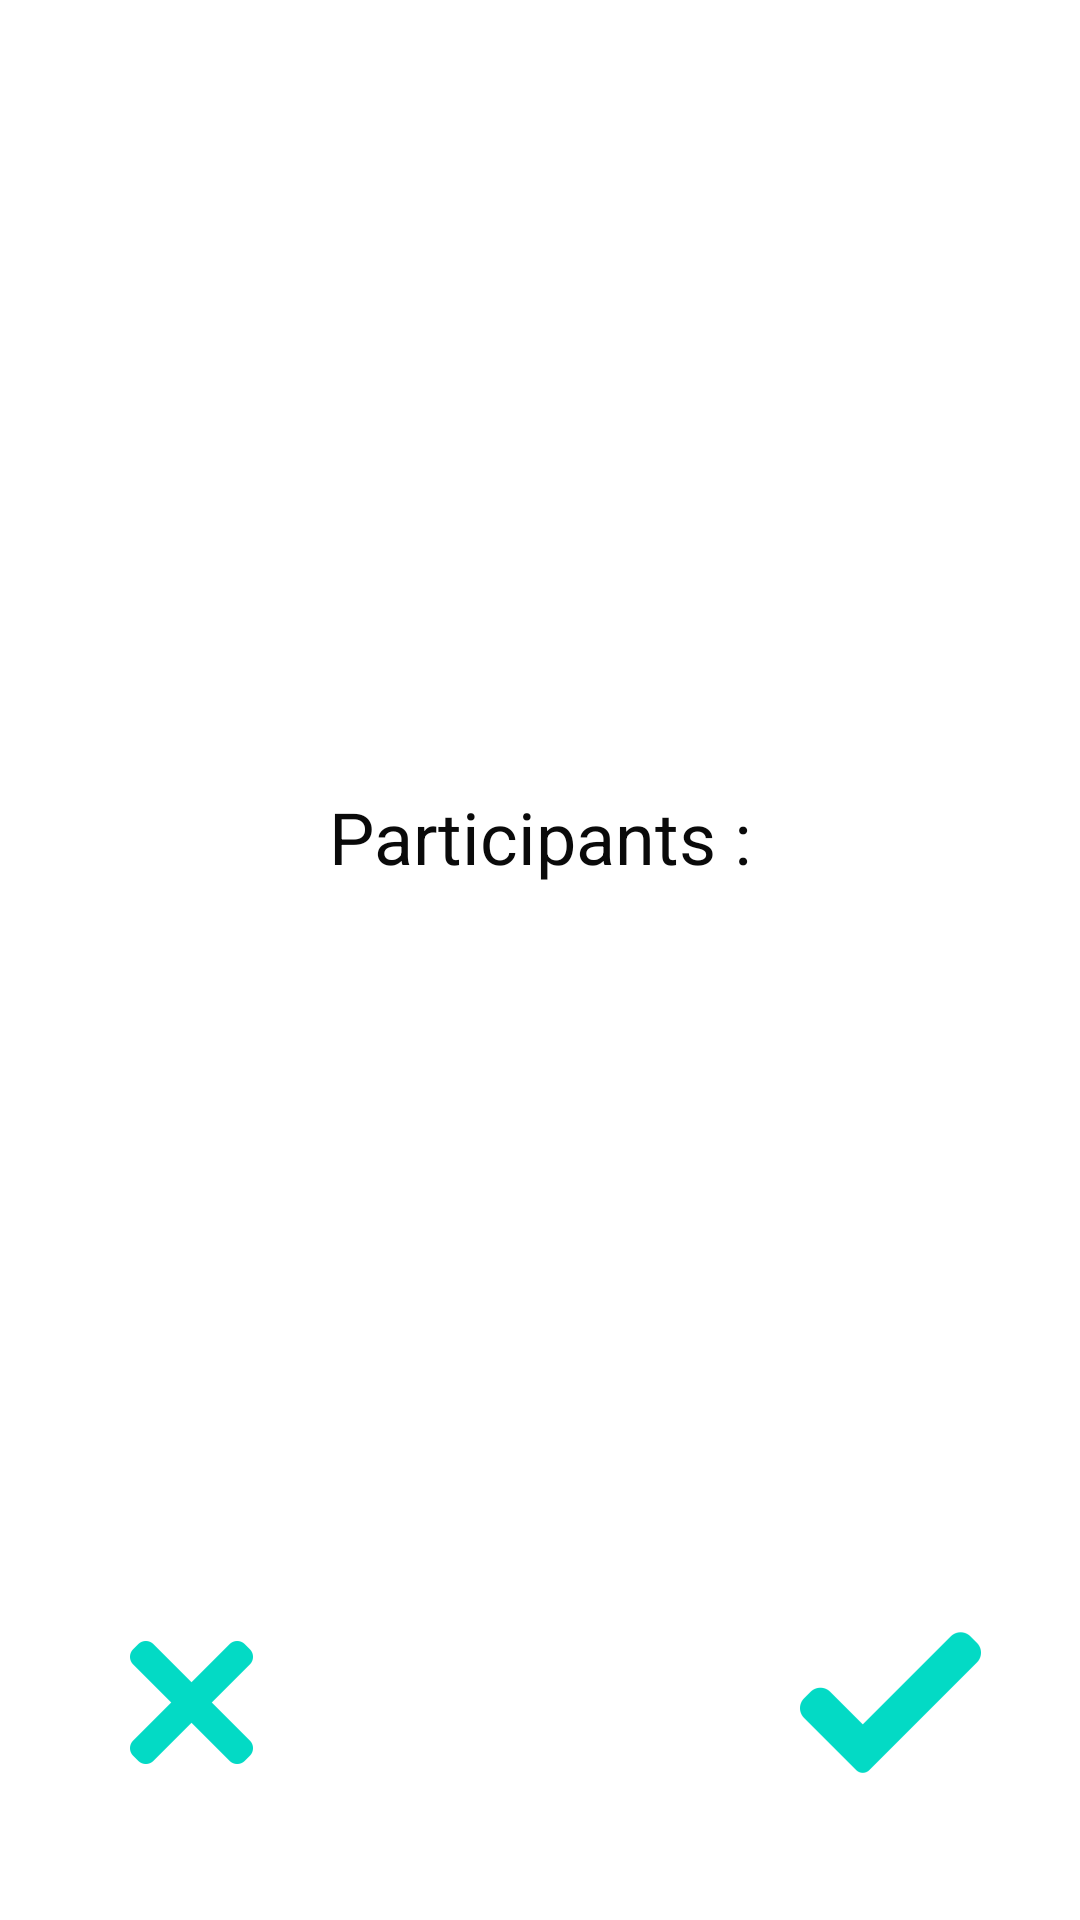

Named icons in this screenshot (1080 × 1920) and their centers, (x,y):
check: (890,1702)
close: (191,1702)
